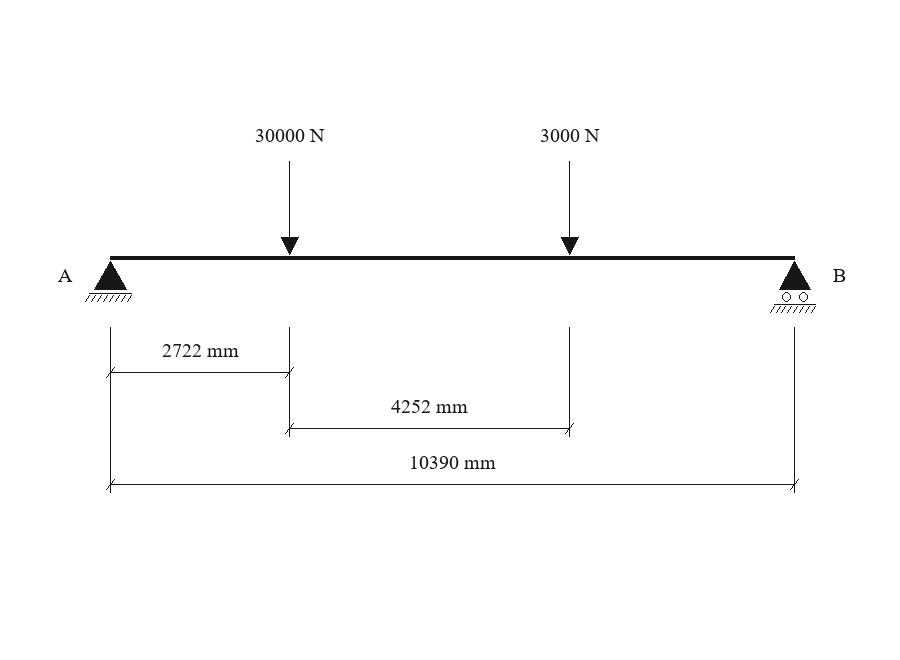pin_support: (85, 261, 132, 302)
point_load: (281, 161, 299, 255), (561, 161, 579, 255)
roller_support: (770, 261, 816, 313)
